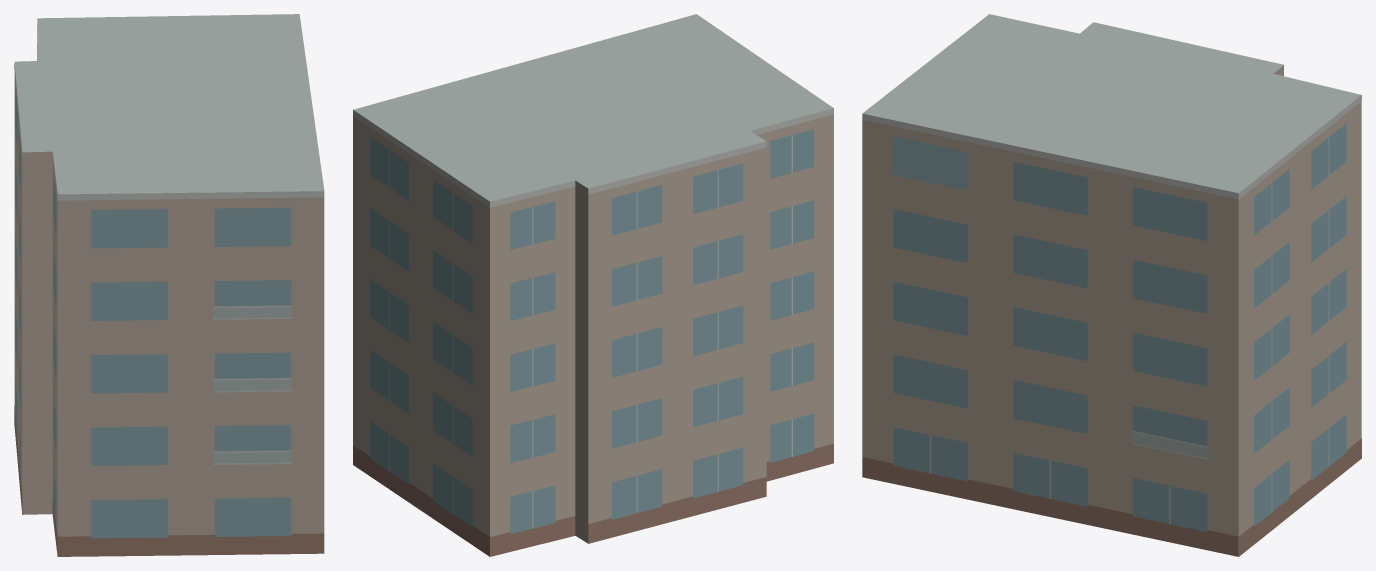
The model's file is survey-upis-32676027.glb.
The picture shows the model from 3 angles, left to right: view 1: azimuth 30°, elevation 25°; view 2: azimuth 150°, elevation 25°; view 3: azimuth 270°, elevation 25°; orthographic projection. The views are drawn at different scales.
Visible parts, largest first — view 1: survey-upis-32676027.tmp; view 2: survey-upis-32676027.tmp; view 3: survey-upis-32676027.tmp.
Boxes of the visible parts, x1,y1,x2,y2 form: survey-upis-32676027.tmp: [14, 14, 324, 556]; survey-upis-32676027.tmp: [353, 14, 833, 556]; survey-upis-32676027.tmp: [862, 14, 1361, 556].
Bounding box in the file's own units: 15.13 × 14.3 × 17.81.
